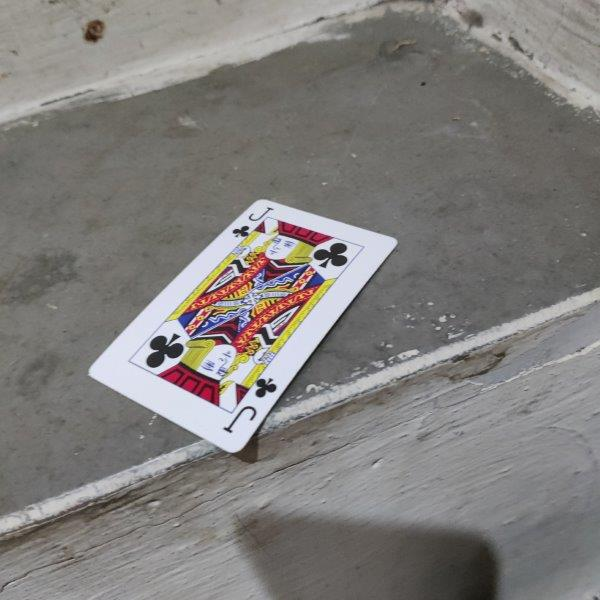Jack of Clubs: (88, 198, 399, 455)
